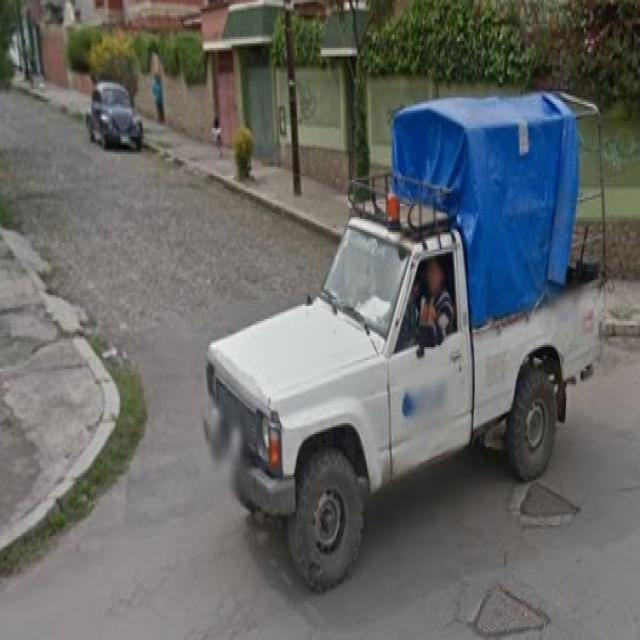cars: (207, 125, 607, 599), (90, 80, 146, 155)
